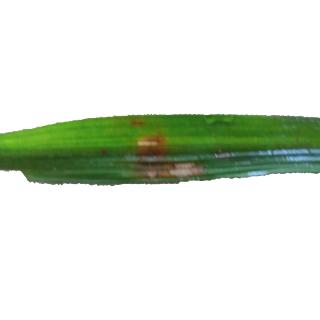Hawar-Daun: (133, 132, 167, 176), (170, 155, 206, 175)
